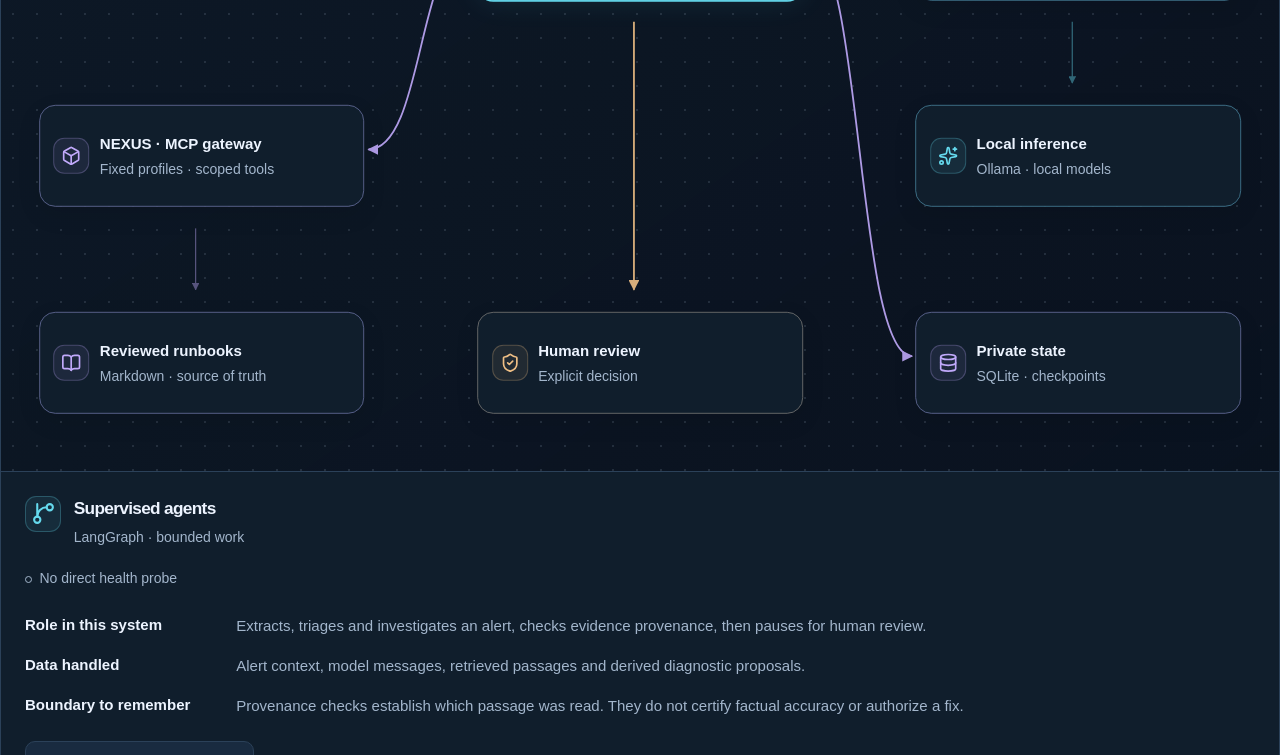
Test: architecture motion and lifecycle › keeps a static usable diagram when IntersectionObserver is unavailable
The width and height of the screenshot is (1280, 755).
(page scrolled)
Click the button "Human review Explicit decision" at {"x": 510, "y": 363}, box [477, 311, 803, 414]
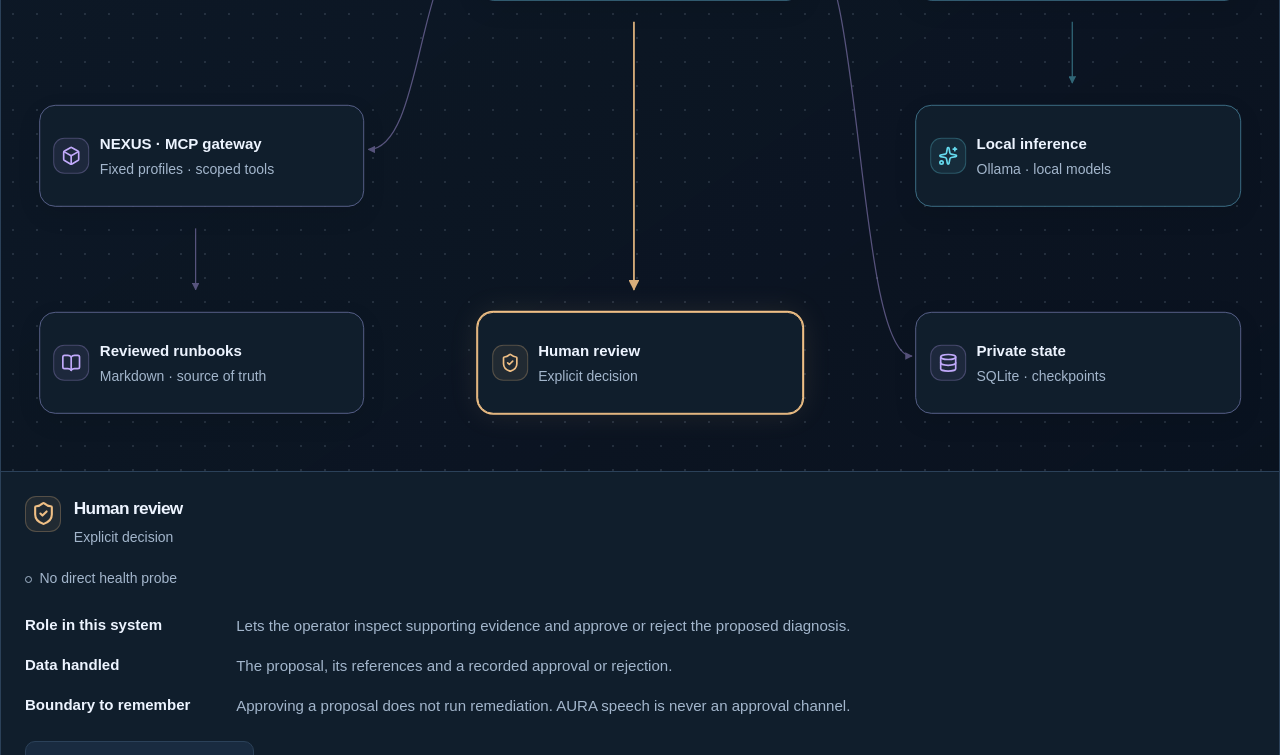
Now the heading "Human review" is shown, box [74, 496, 183, 521]
